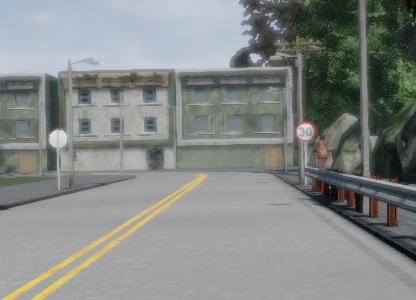Speed_30: (329, 33, 384, 94)
